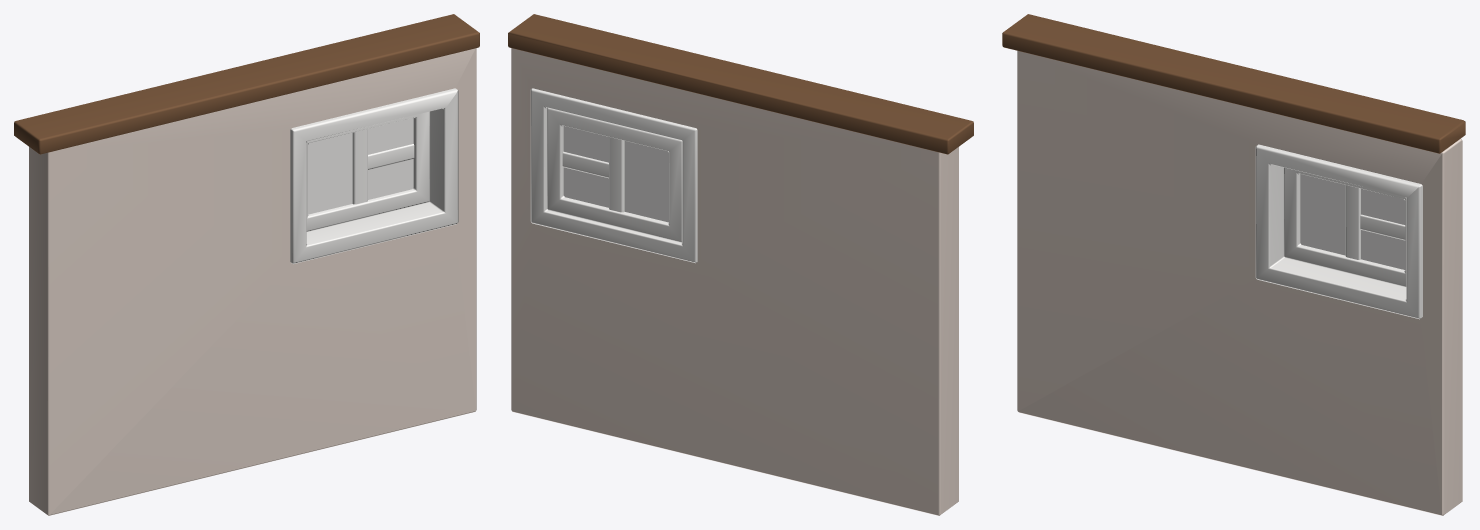
Rendered from Wall_white_brown_window.glb.
3 views of the same model, side by side, from view 1: azimuth 30°, elevation 25°; view 2: azimuth 150°, elevation 25°; view 3: azimuth 330°, elevation 25° (orthographic).
Visible parts, largest first — view 1: Wall_11; view 2: Wall_11; view 3: Wall_11.
Boxes of the visible parts, x1=… form: Wall_11: x1=14, y1=14, x2=479, y2=515; Wall_11: x1=508, y1=14, x2=973, y2=515; Wall_11: x1=1002, y1=14, x2=1465, y2=515.
Bounding box in the file's own units: 5.12 × 4.24 × 0.54.
2 materials, 2 textured.
